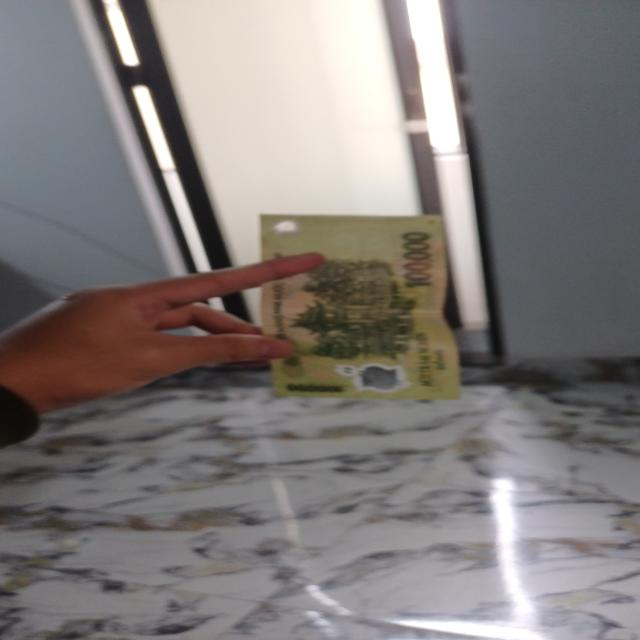100 000 VND: (250, 211, 468, 404)
